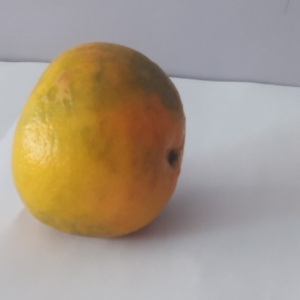BAD: (9, 40, 185, 238)
